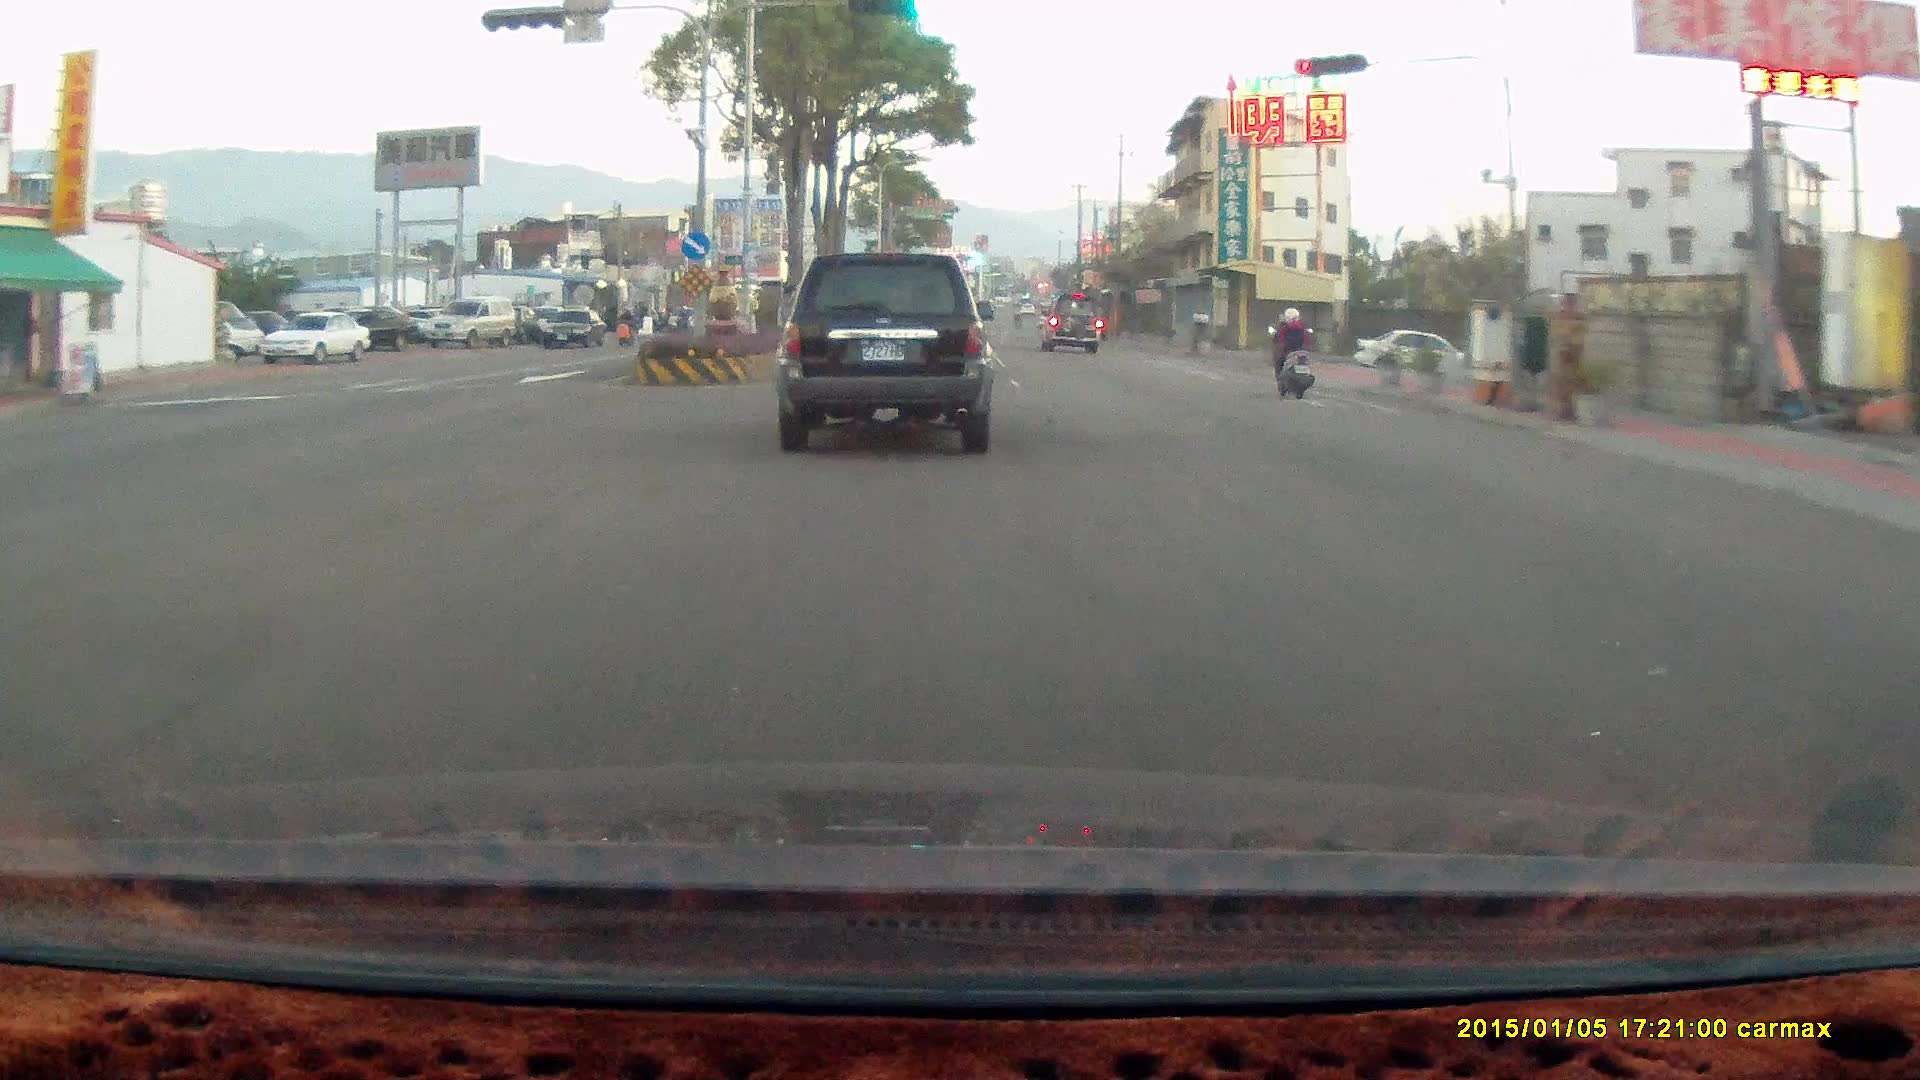rider: (1258, 298, 1327, 408), (1263, 300, 1311, 395)
vehicle: (785, 255, 1004, 458), (775, 252, 995, 452), (1351, 326, 1472, 381), (266, 309, 375, 366), (262, 308, 371, 365), (1360, 327, 1465, 379), (424, 297, 519, 351), (423, 295, 518, 348), (328, 307, 417, 351), (1038, 292, 1101, 351), (1045, 295, 1103, 357), (544, 310, 610, 350), (543, 308, 608, 348)
